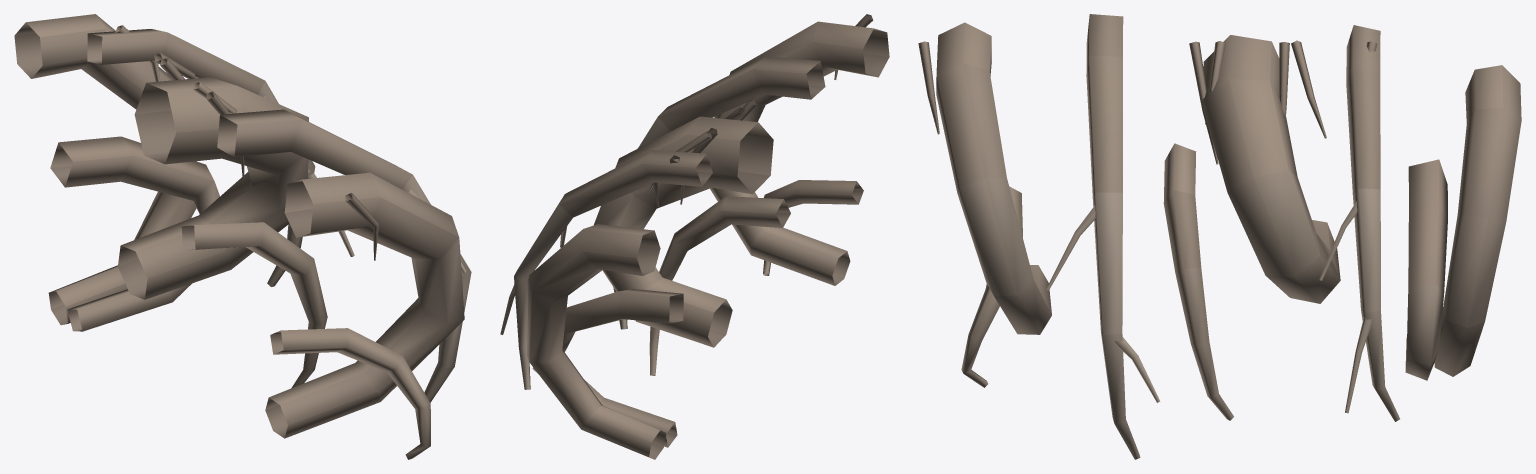
The model's file is CreekRoots_bark.glb.
3 renders of one model, left to right at view 1: azimuth 30°, elevation 25°; view 2: azimuth 150°, elevation 25°; view 3: azimuth 270°, elevation 25°, orthographic. The views are drawn at different scales.
Parts seen in each view (by area): view 1: CreekRoots_bark; view 2: CreekRoots_bark; view 3: CreekRoots_bark.
Boxes of the visible parts, left/top/right/bottom form: CreekRoots_bark: left=14, top=14, right=471, bottom=459; CreekRoots_bark: left=500, top=14, right=889, bottom=459; CreekRoots_bark: left=918, top=14, right=1521, bottom=459.
Size of the model in its own units: 2.7 by 3.53 by 5.6.
